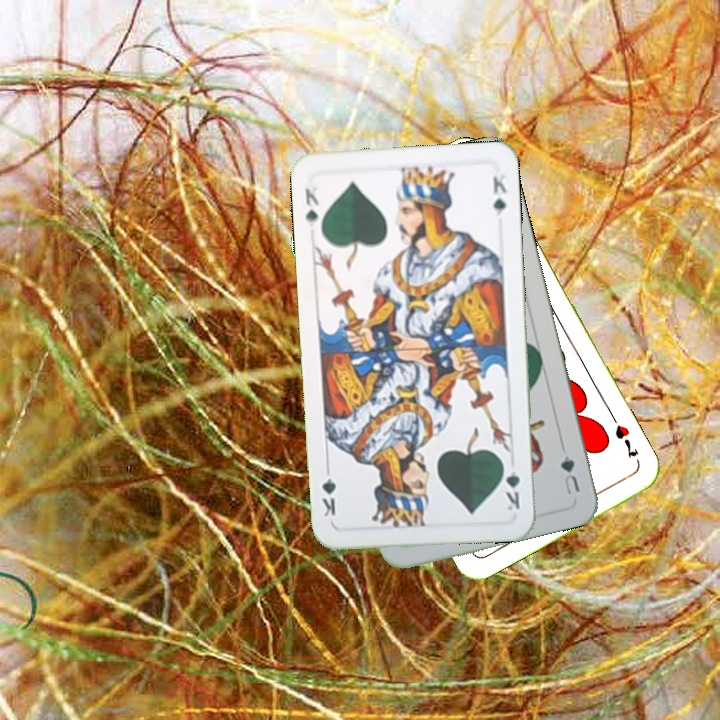GK: (499, 456, 523, 513), (301, 182, 322, 230)
GU: (556, 451, 583, 498)
H7: (611, 420, 641, 461)
